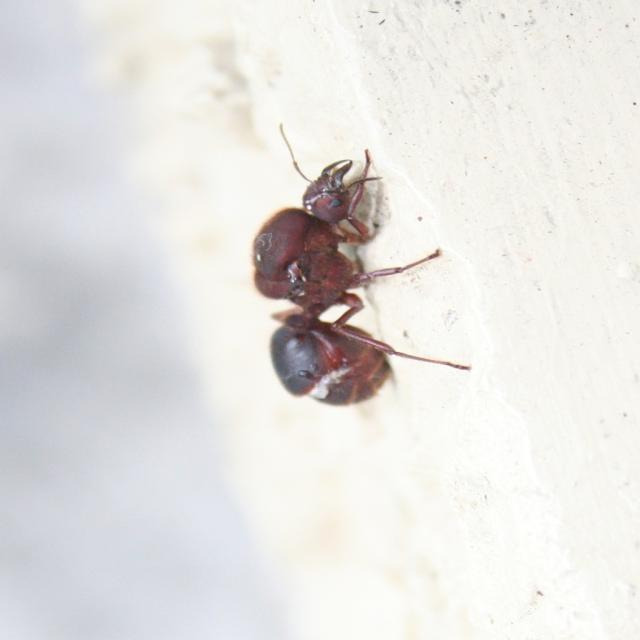Alive-Female-Dealate: (248, 122, 472, 408)
